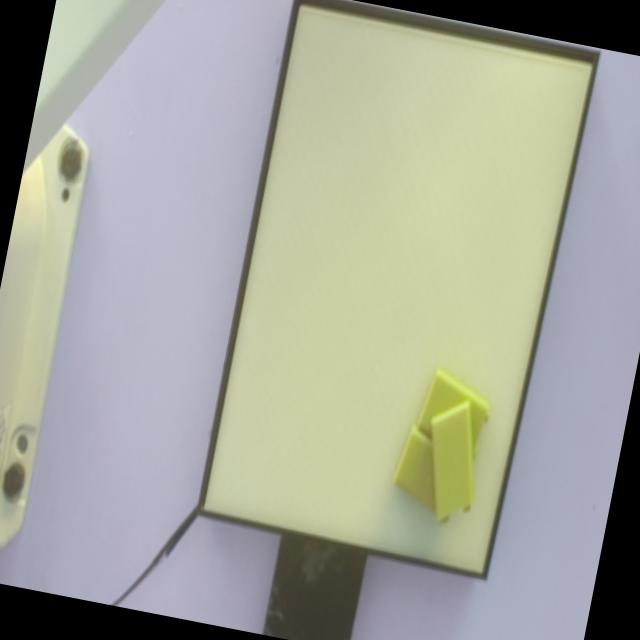bateria: (431, 403, 473, 524)
mesa: (196, 0, 601, 582)
